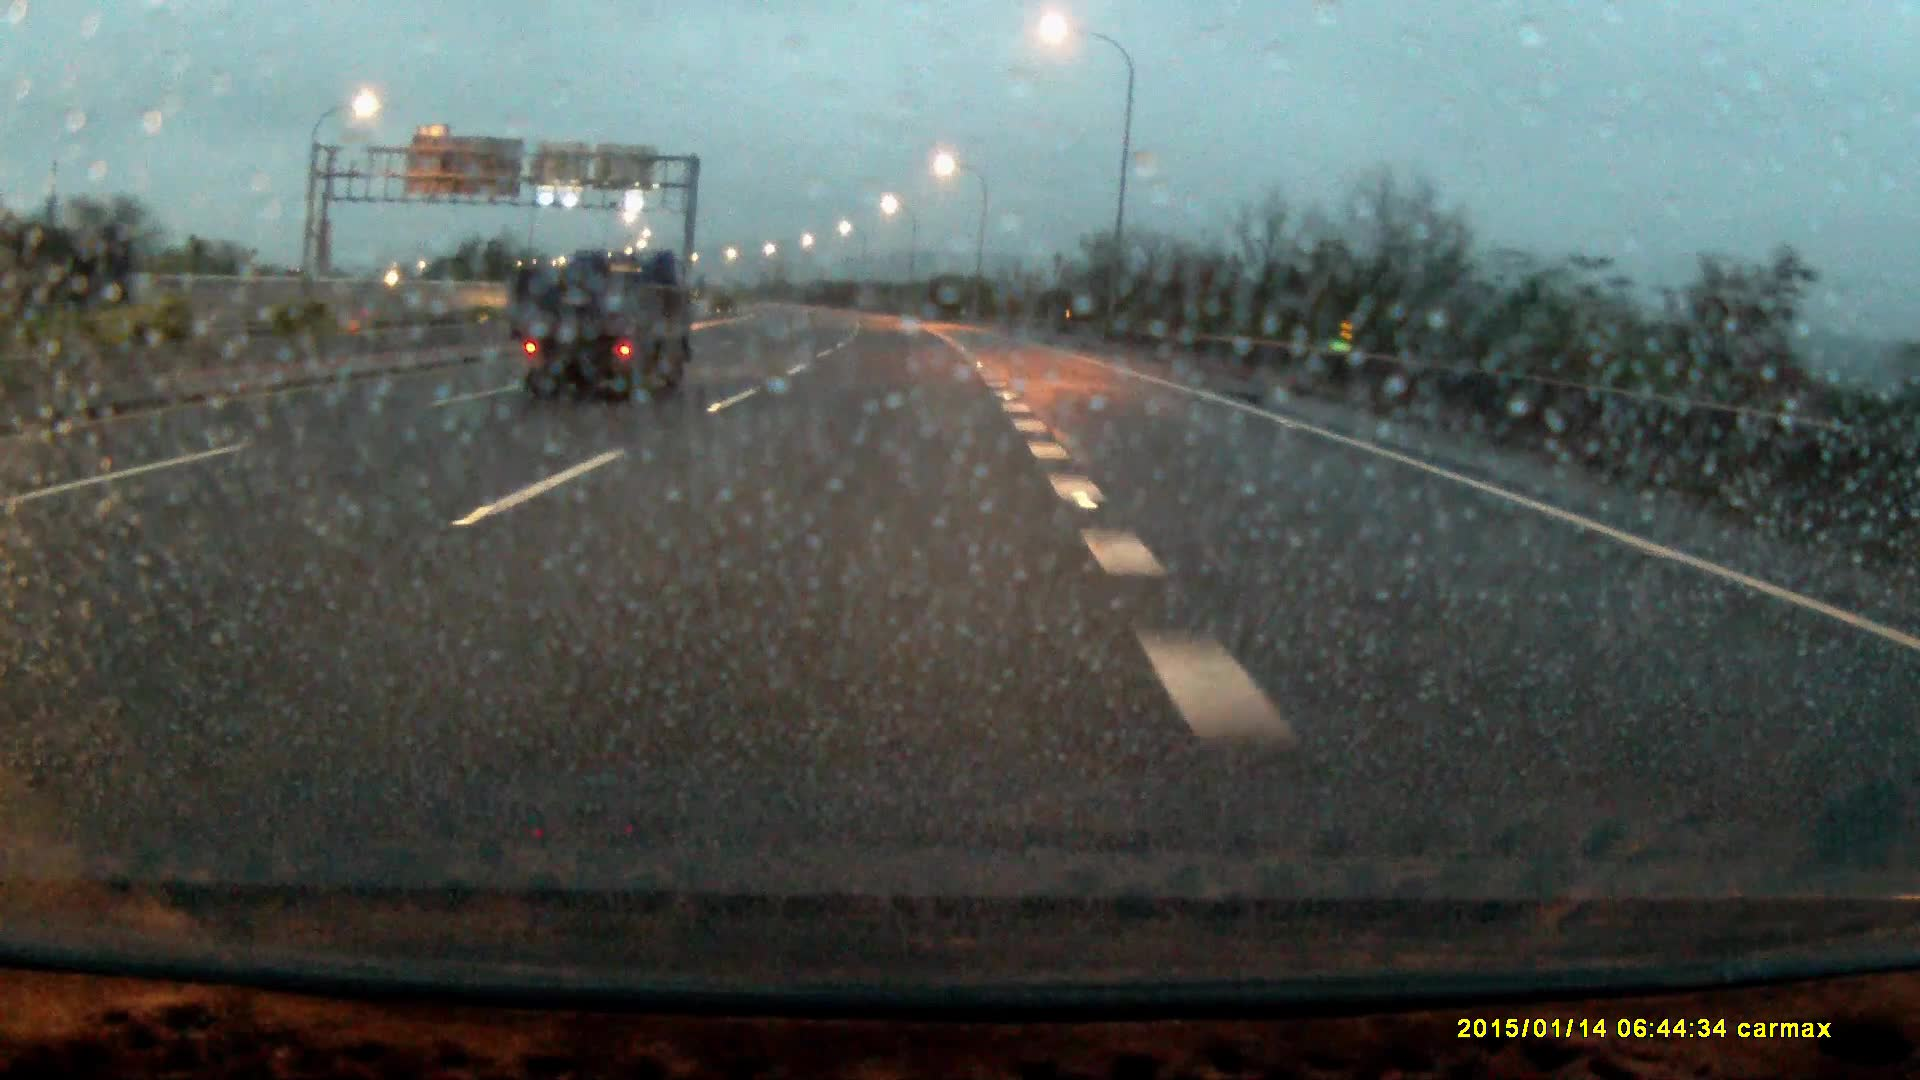vehicle: (513, 251, 699, 404)
